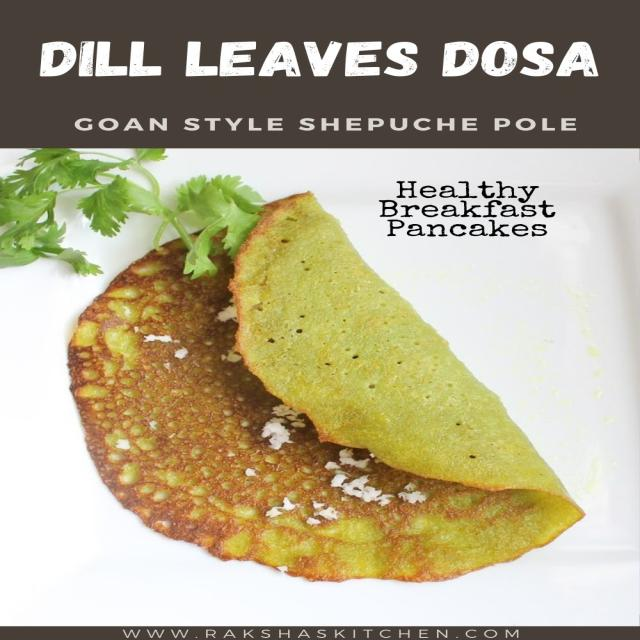DOSA: (65, 188, 579, 578)
